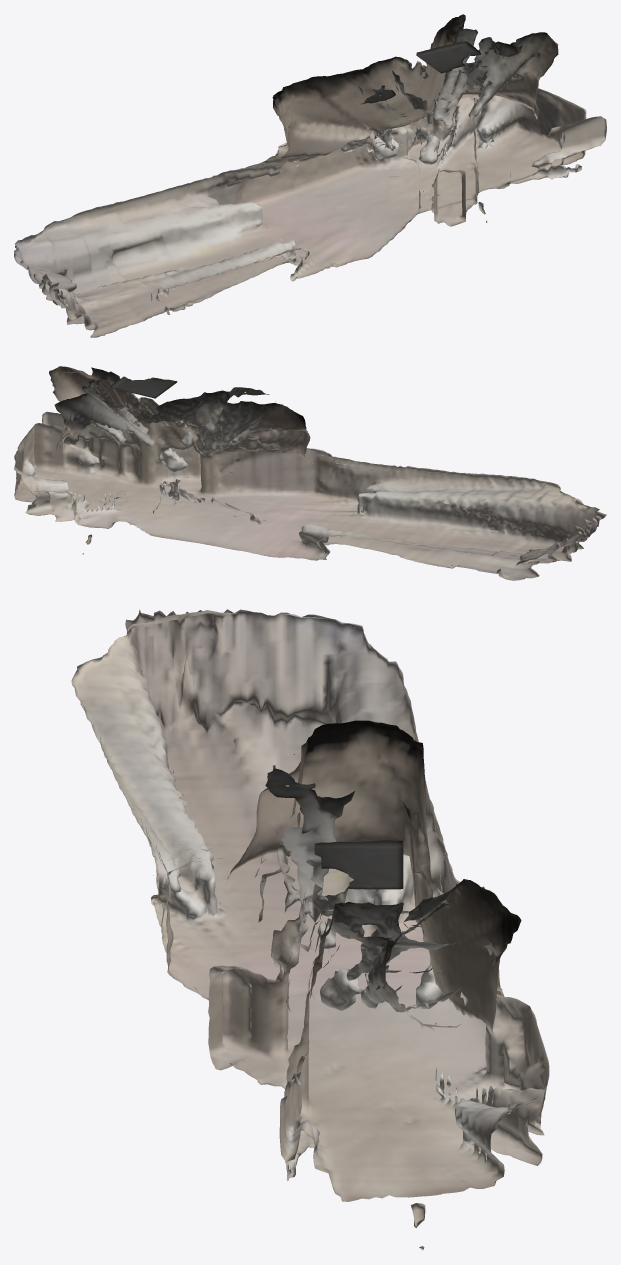
Rendered from NeonLounge.glb.
3 views of the same model, one above another, from view 1: azimuth 30°, elevation 25°; view 2: azimuth 150°, elevation 25°; view 3: azimuth 270°, elevation 25° (orthographic). The views are drawn at different scales.
Visible parts, largest first — view 1: world; view 2: world; view 3: world.
Boxes of the visible parts, x1,y1,x2,y2 form: world: (14,14,606,337); world: (14,366,606,580); world: (71,609,549,1250).
Size of the model in its own units: 25.72 by 8.1 by 10.11.
